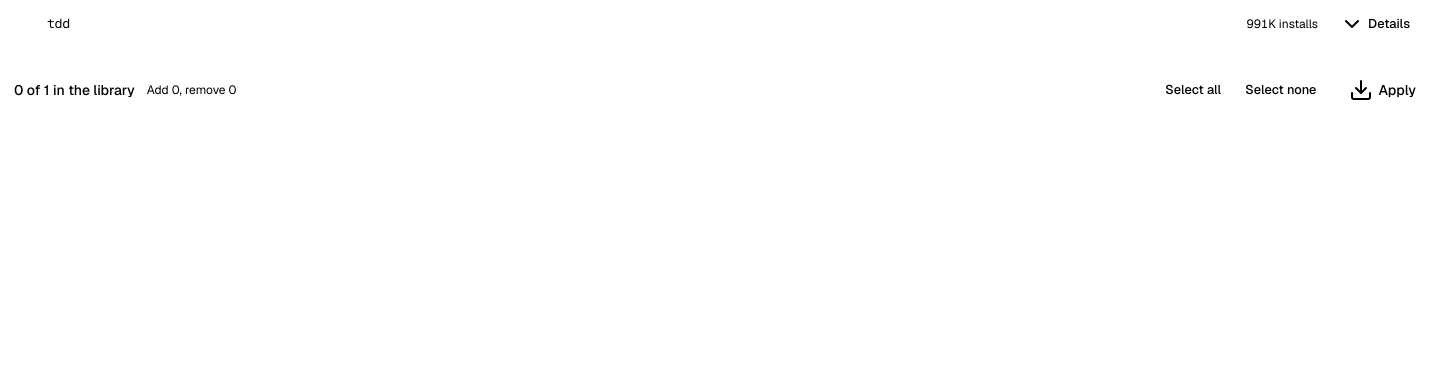
it: a skill in a repository's list can be expanded to its details
Click the button with aria-label "Details of tdd" at (1375, 24), box [1330,10,1420,38]
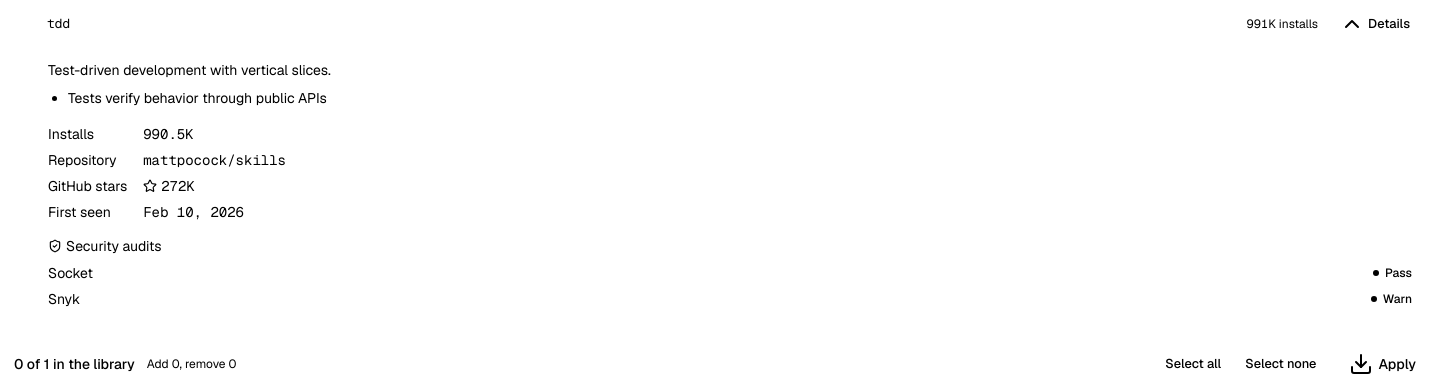
Expected: the text "Test-driven development with vertical slices." is shown, [48,61,331,79]
